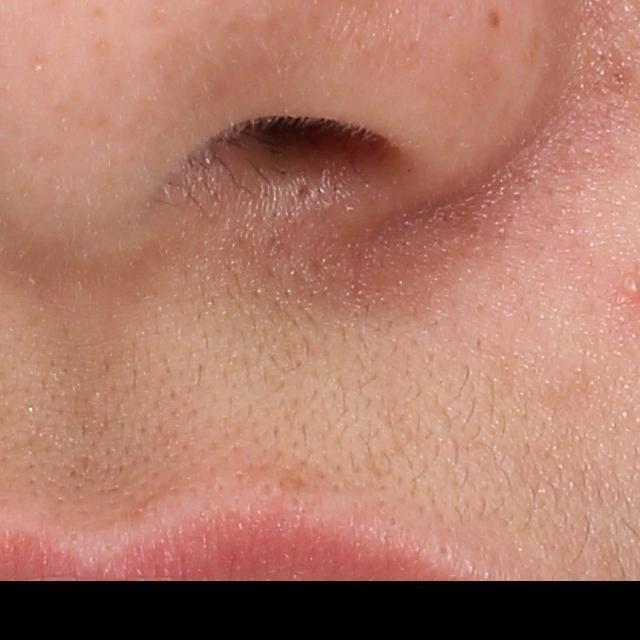nevus: (486, 12, 504, 31)
